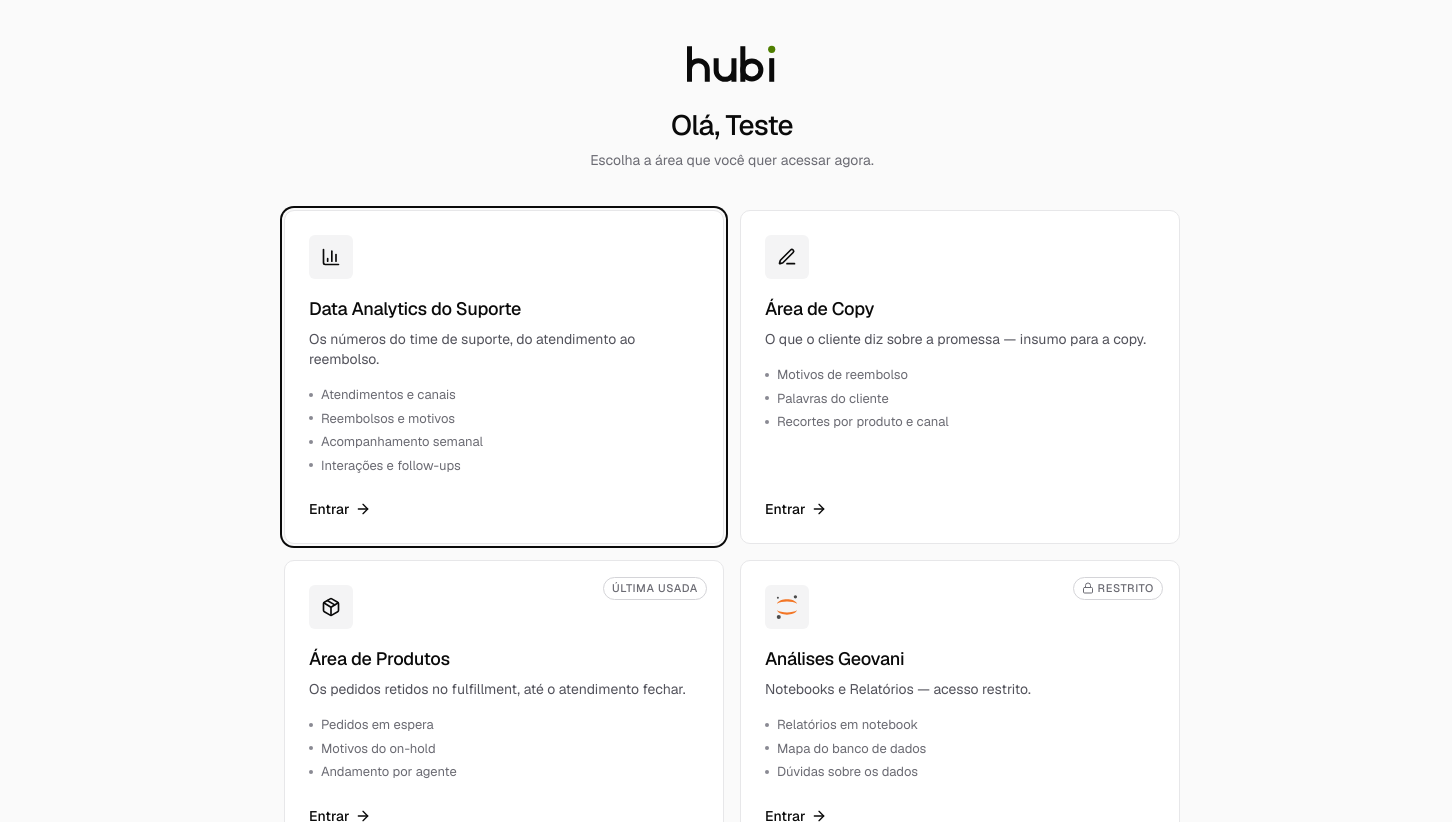
Test case: AreaSelect — time de copy › entra em Copy normalmente
The image size is (1452, 822).
Click the button with aria-label "Entrar na Área de Copy". click: point(787, 257)
box: [740, 210, 1180, 544]
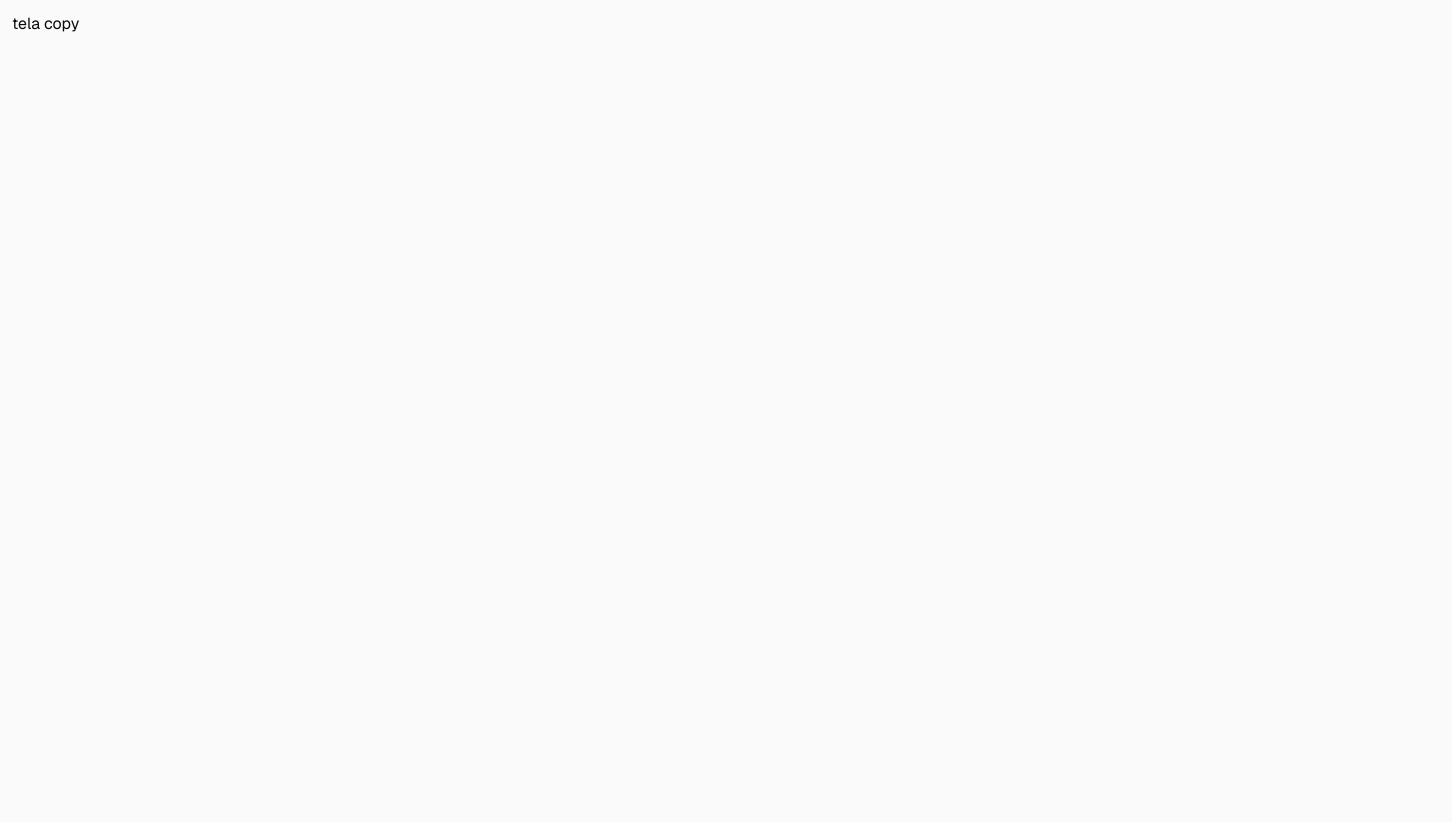
Now the text "tela copy" is shown, box [12, 13, 79, 34]
